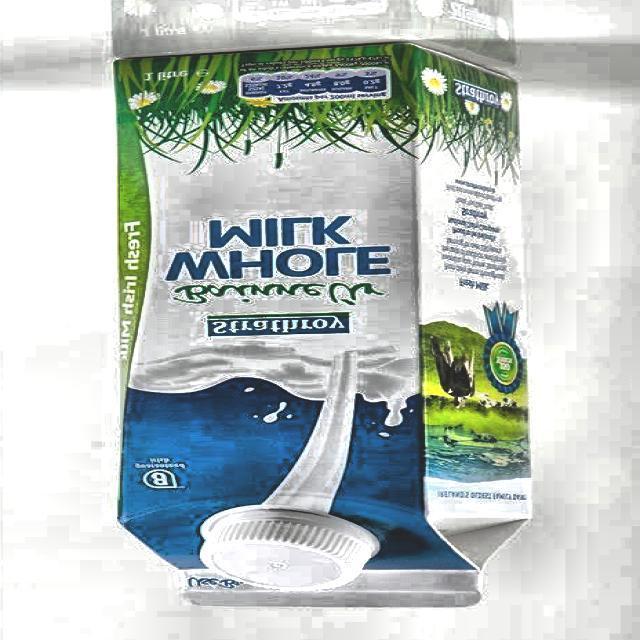cardboard: (112, 44, 532, 609)
